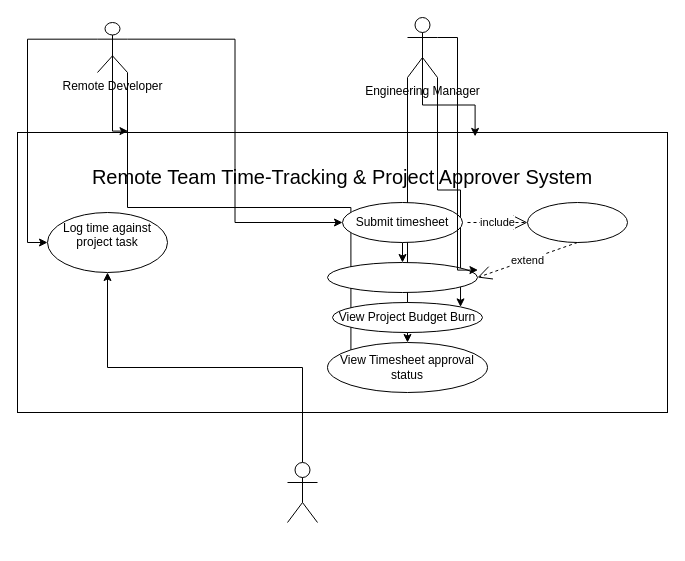
The diagram is 685 pixels wide and 561 high, and some of its shapes have lost their labels. The shapes that lost their labels are listed below. From the top down, each one's centre as x and y in pixels, then its label:
the point at 577,222: Validate timesheet
the point at 402,277: Approve/Reject timesheet
the point at 302,492: User
